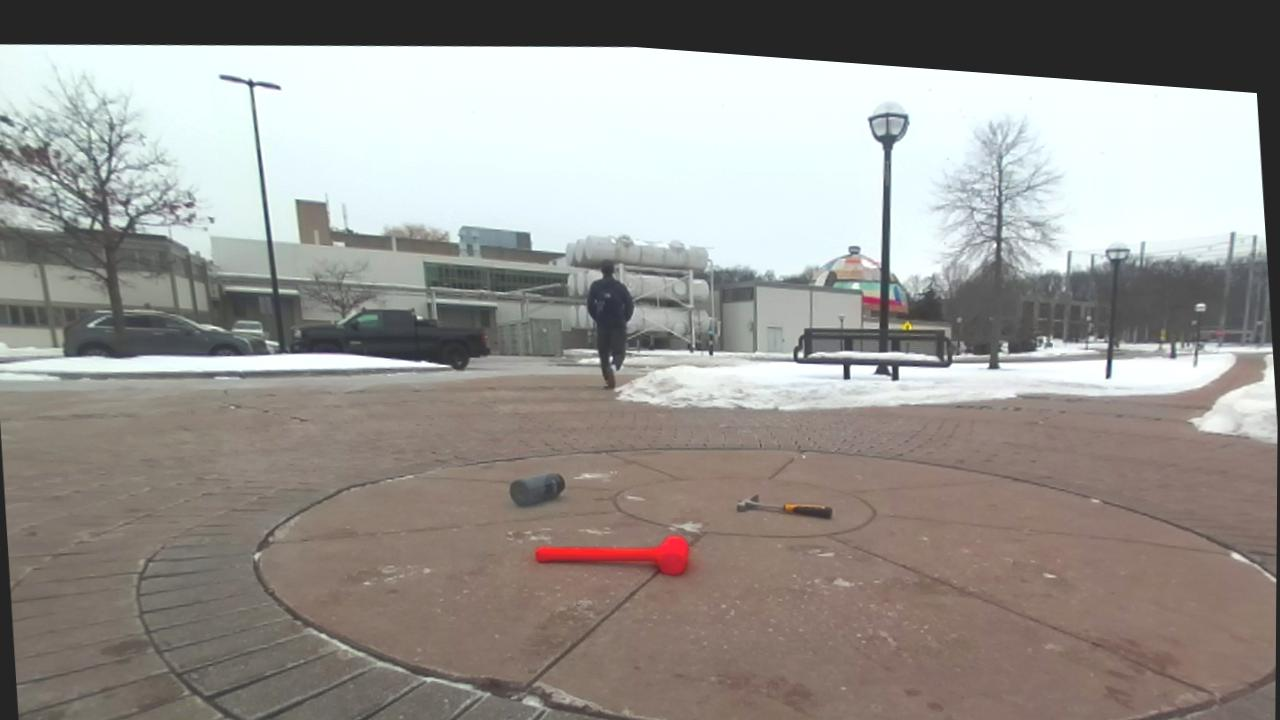bottle: (509, 472, 564, 505)
mallet: (536, 536, 689, 574)
pick: (735, 494, 832, 517)
